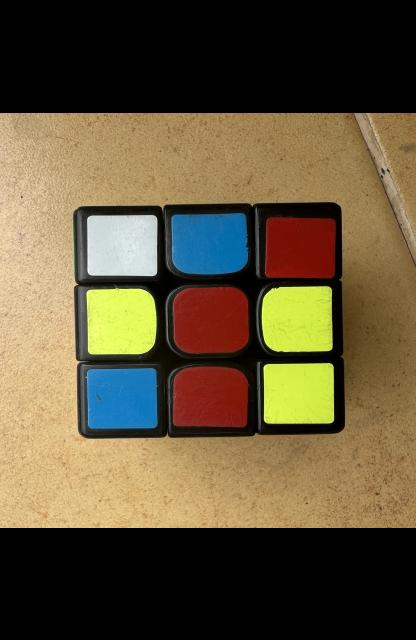Blue: (172, 212, 248, 273), (87, 368, 158, 427)
Red: (173, 285, 249, 352), (173, 366, 248, 426), (266, 216, 336, 277)
White: (87, 214, 158, 276)
Yellow: (262, 285, 333, 351), (87, 288, 157, 354), (263, 362, 334, 423)
